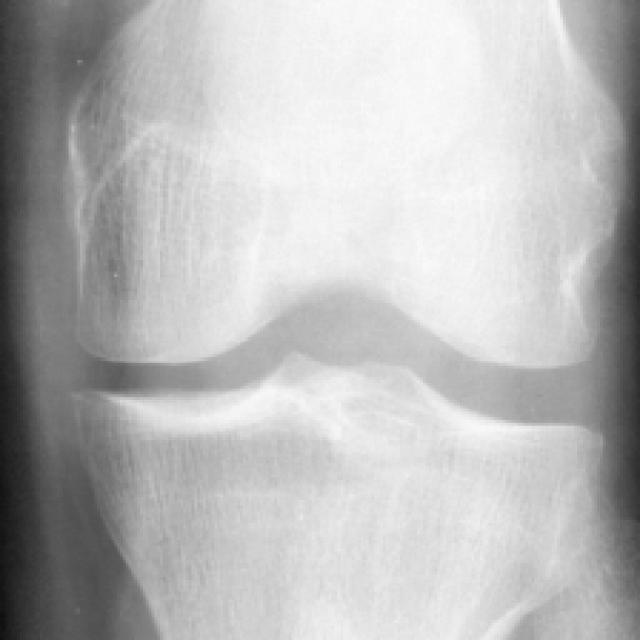femur: (66, 0, 628, 368)
tibia: (72, 356, 608, 640)
